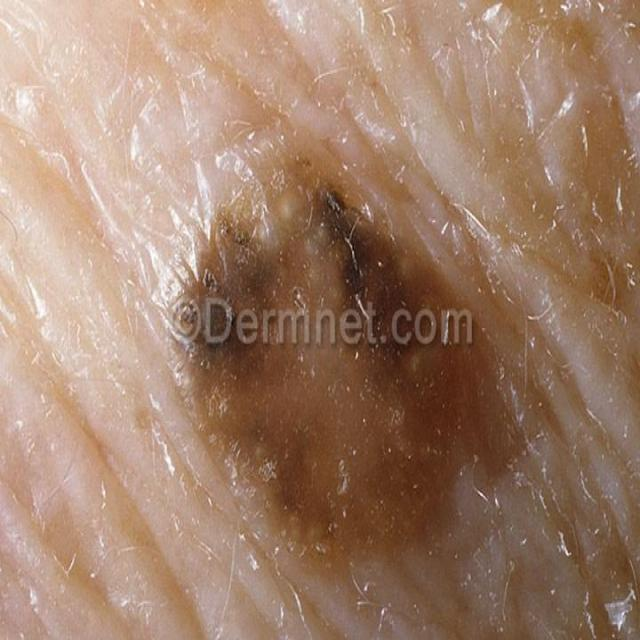Eczema: (66, 0, 624, 630)
